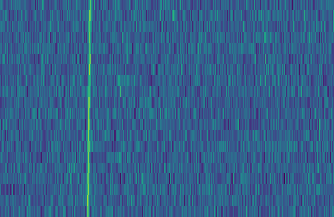signal: (121, 0, 132, 217)
